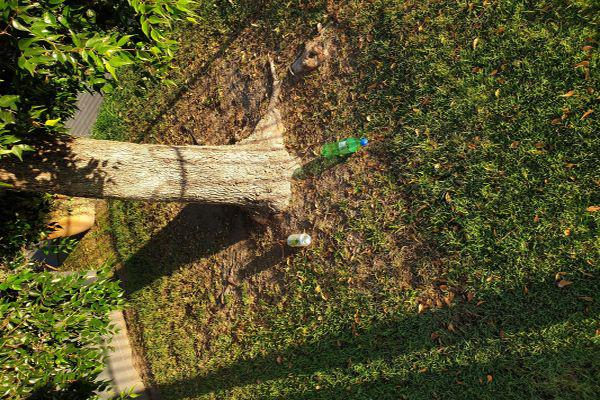Plastic Bottle: (320, 137, 369, 160), (287, 233, 312, 248)
